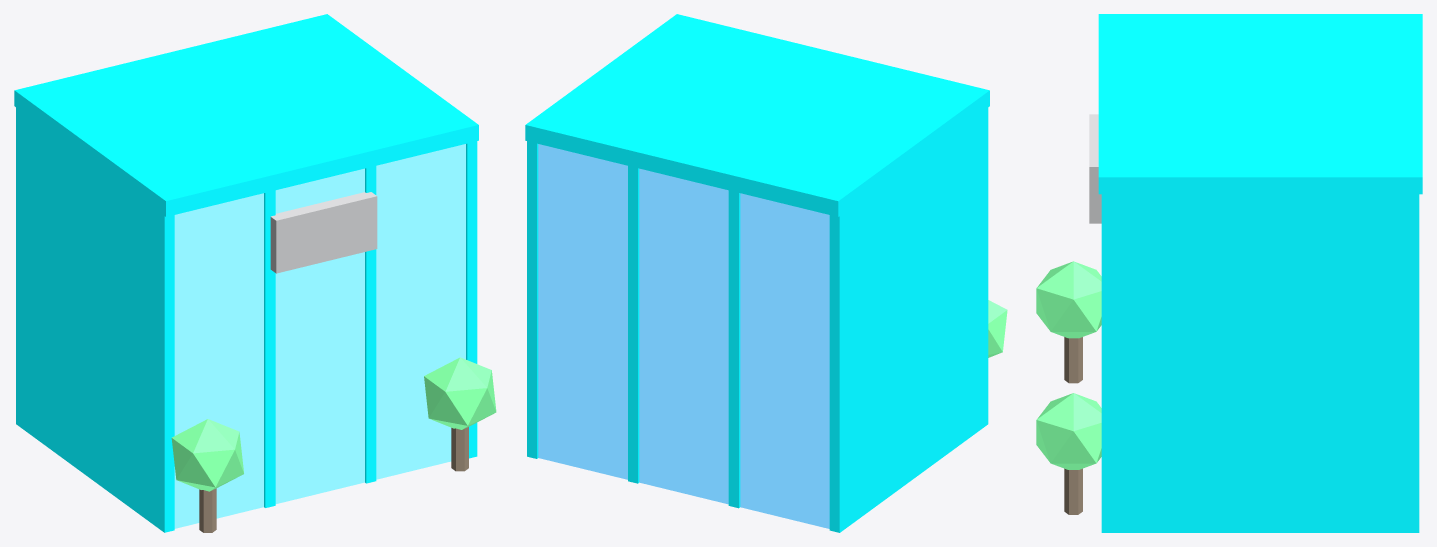
File: techco.glb
3 views of the same model, side by side, from view 1: azimuth 30°, elevation 25°; view 2: azimuth 150°, elevation 25°; view 3: azimuth 270°, elevation 25° (orthographic). The views are drawn at different scales.
Visible parts, largest first — view 1: techco; view 2: techco; view 3: techco.
Boxes of the visible parts, x1,y1,x2,y2 form: techco: (14, 14, 496, 532); techco: (525, 14, 1007, 532); techco: (1036, 14, 1422, 532).
Size of the model in its own units: 1.25 by 1.26 by 1.24.
